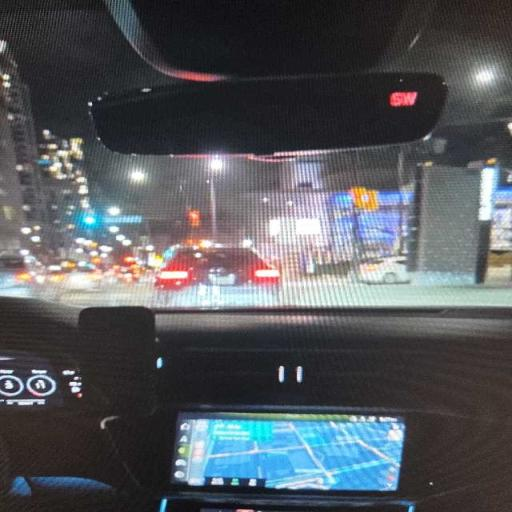car: (0, 0, 511, 511), (155, 247, 281, 305), (0, 255, 35, 296), (358, 257, 410, 283), (57, 262, 102, 291)
lane: (36, 277, 511, 308), (289, 422, 335, 483)
